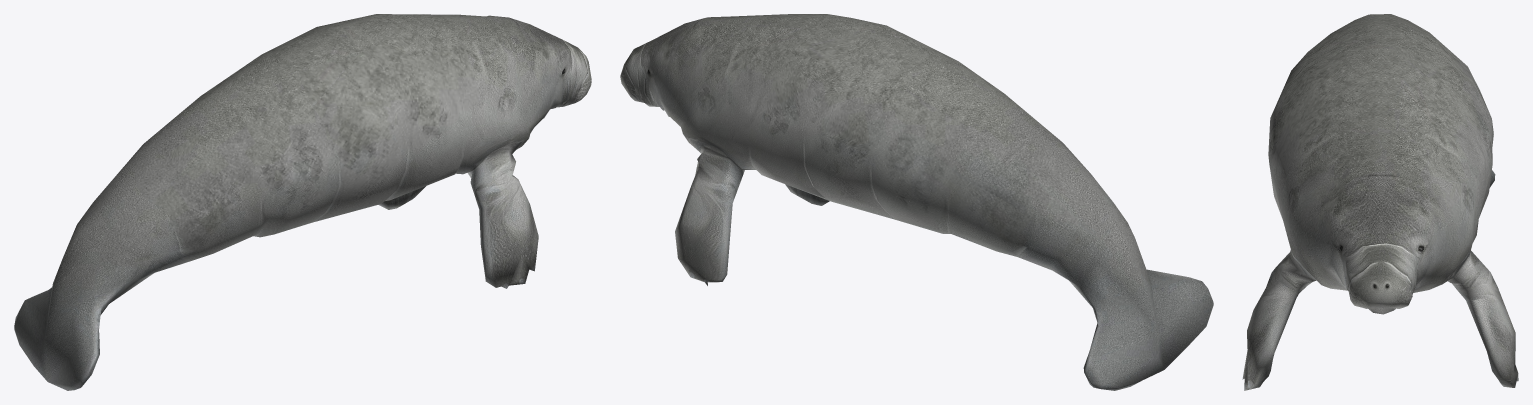
Rendered from manati.fbx.
3 views of the same model, side by side, from view 1: azimuth 30°, elevation 25°; view 2: azimuth 150°, elevation 25°; view 3: azimuth 270°, elevation 25° (orthographic). The views are drawn at different scales.
Visible parts, largest first — view 1: manati; view 2: manati; view 3: manati.
Boxes of the visible parts, <box> form: manati: <box>14,14,591,390</box>; manati: <box>620,14,1213,390</box>; manati: <box>1242,14,1518,390</box>.
Size of the model in its own units: 3.2 by 1.53 by 1.19.
1 material, 1 textured.
